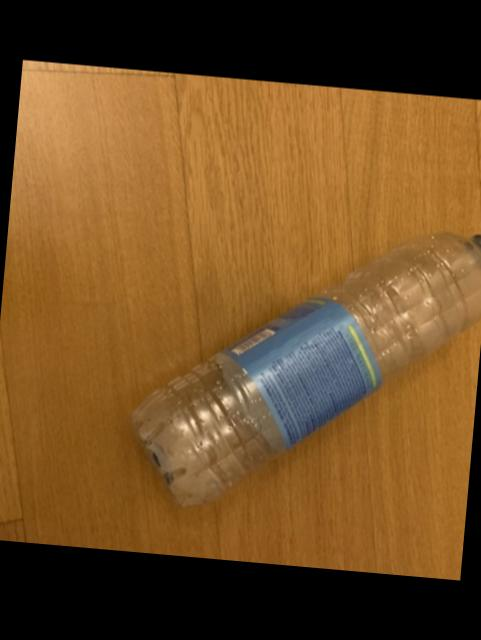plastic: (134, 231, 481, 504)
